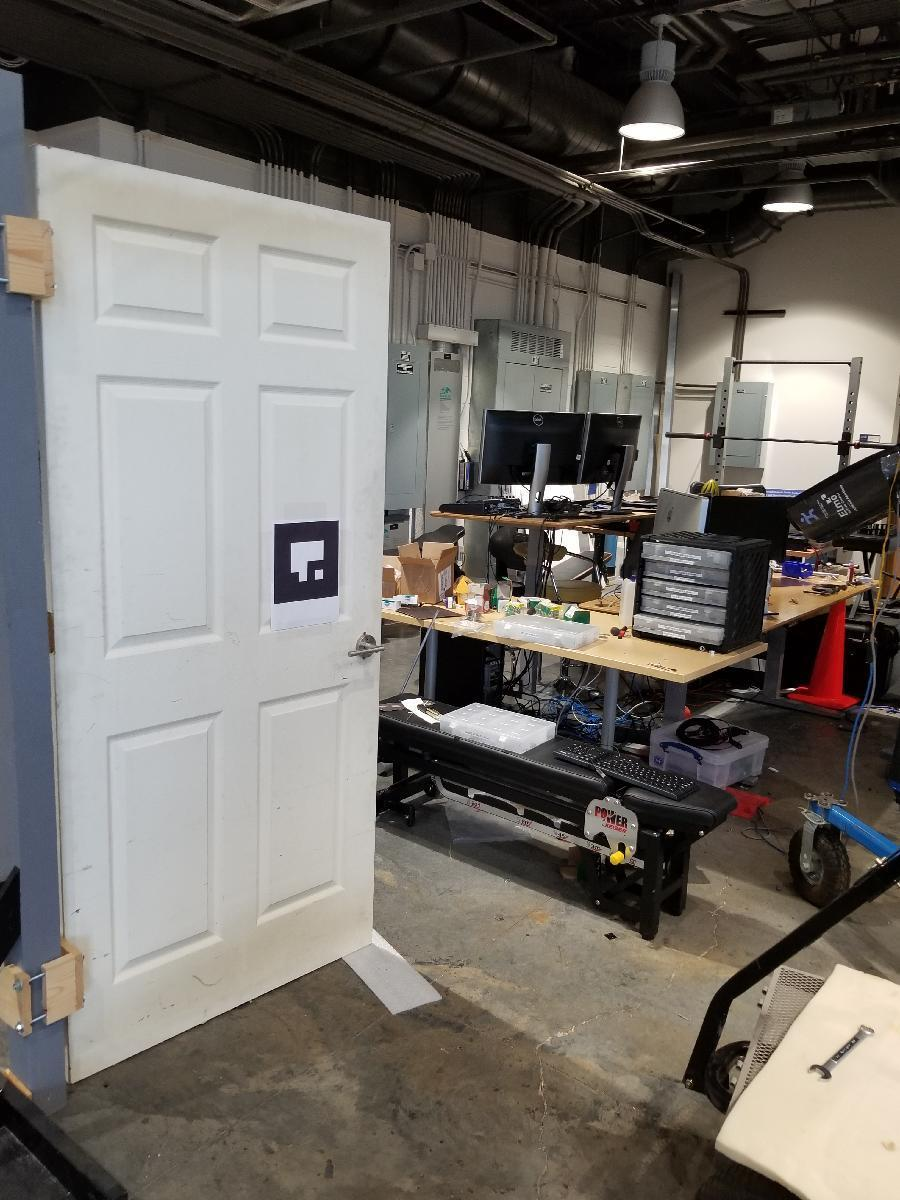door: (40, 148, 394, 1029)
handle: (341, 623, 389, 672)
